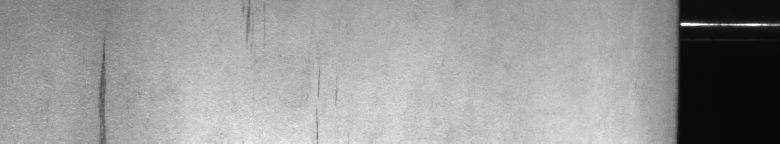hd: (88, 40, 116, 136)
